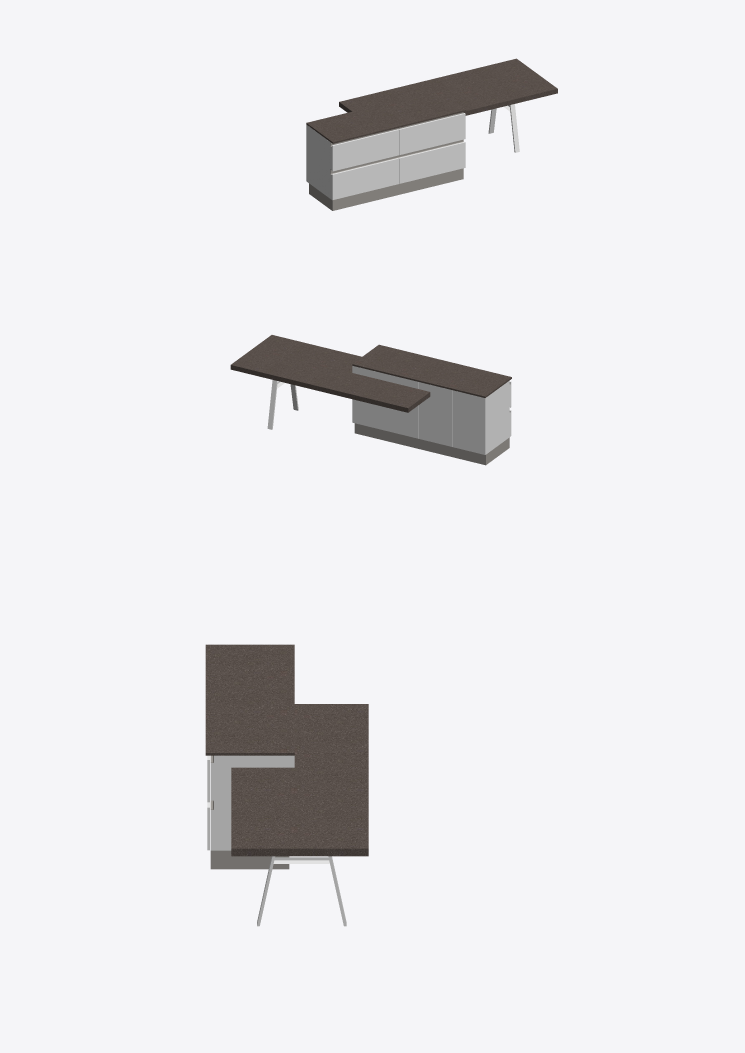
The model's file is table.glb.
3 renders of one model, top to bottom at view 1: azimuth 30°, elevation 25°; view 2: azimuth 150°, elevation 25°; view 3: azimuth 270°, elevation 25°, orthographic. The views are drawn at different scales.
Parts seen in each view (by area): view 1: Mesh9, Mesh2, Mesh1, Mesh16; view 2: Mesh9, Mesh2, Mesh1, Mesh16; view 3: Mesh9, Mesh16, Mesh2, Mesh1.
Boxes of the visible parts, x1,y1,x2,y2 form: Mesh9: (306,58,557,143); Mesh2: (306,104,519,200); Mesh1: (309,112,463,210); Mesh16: (307,125,331,199); Mesh9: (230,335,511,412); Mesh2: (267,366,511,454); Mesh1: (354,384,510,465); Mesh16: (486,380,510,453); Mesh9: (205,644,368,856); Mesh16: (210,755,291,850); Mesh2: (207,755,346,926); Mesh1: (210,755,289,869).
Size of the model in its own units: 67.86 by 9.05 by 50.32.
5 materials, 2 textured.
